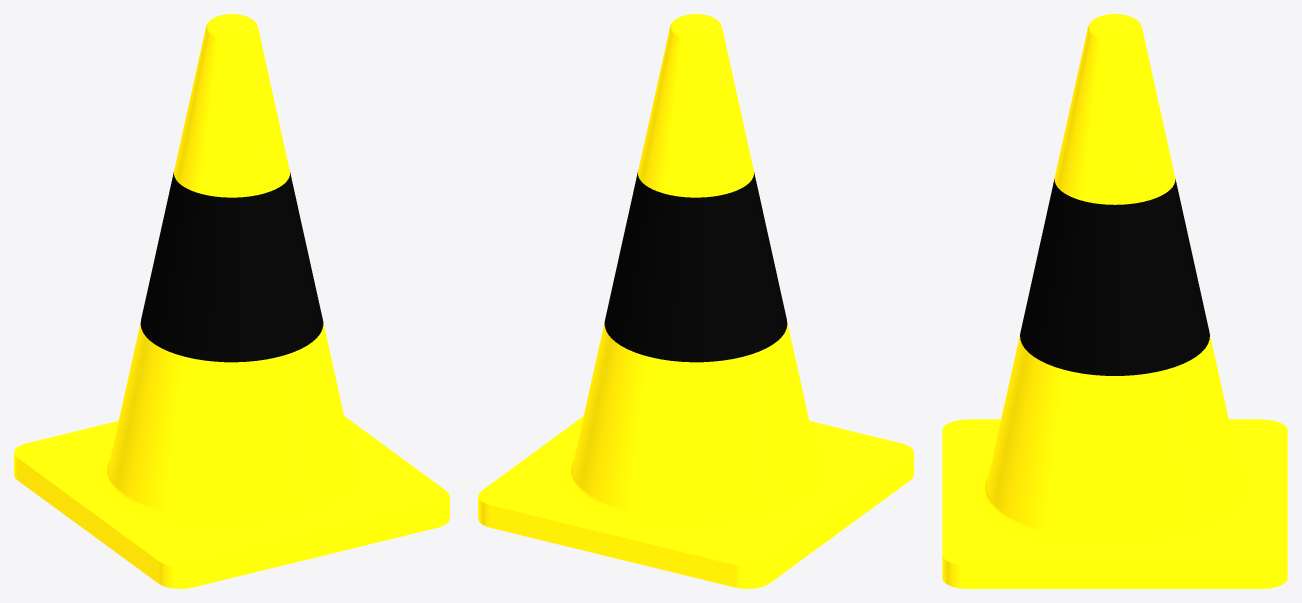
Rendered from cone_yellow.dae.
3 renders of one model, left to right at view 1: azimuth 30°, elevation 25°; view 2: azimuth 150°, elevation 25°; view 3: azimuth 270°, elevation 25°, orthographic. The views are drawn at different scales.
Parts seen in each view (by area): view 1: YellowCone; view 2: YellowCone; view 3: YellowCone.
Boxes of the visible parts, x1,y1,x2,y2 form: YellowCone: (14, 14, 449, 588); YellowCone: (478, 14, 913, 588); YellowCone: (942, 14, 1287, 588).
Size of the model in its own units: 0.2 by 0.2 by 0.315.
